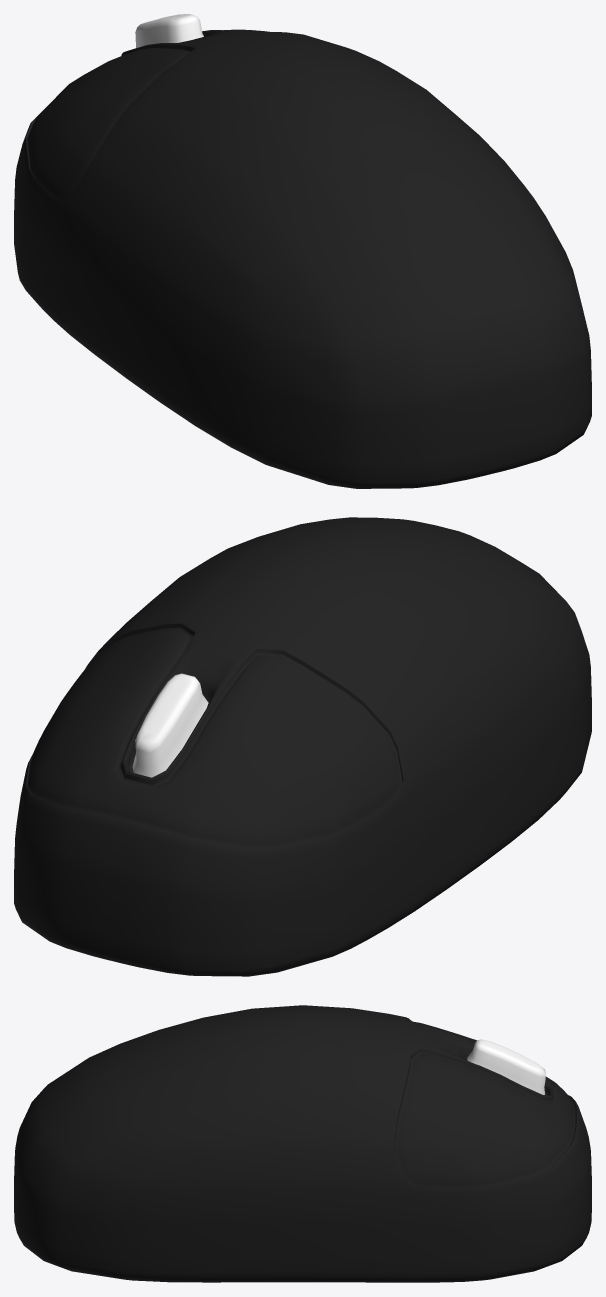
The model's file is Mouse.glb.
3 renders of one model, top to bottom at view 1: azimuth 30°, elevation 25°; view 2: azimuth 150°, elevation 25°; view 3: azimuth 270°, elevation 25°, orthographic. The views are drawn at different scales.
Parts seen in each view (by area): view 1: Mouse; view 2: Mouse; view 3: Mouse.
Part boxes in pixels (box(x1,y1,x2,y2)): Mouse: box(14, 14, 591, 488); Mouse: box(14, 517, 591, 976); Mouse: box(14, 1005, 591, 1282).
Size of the model in its own units: 0.0488 by 0.0364 by 0.0886.
Materials: 1 (1 with a texture image).
